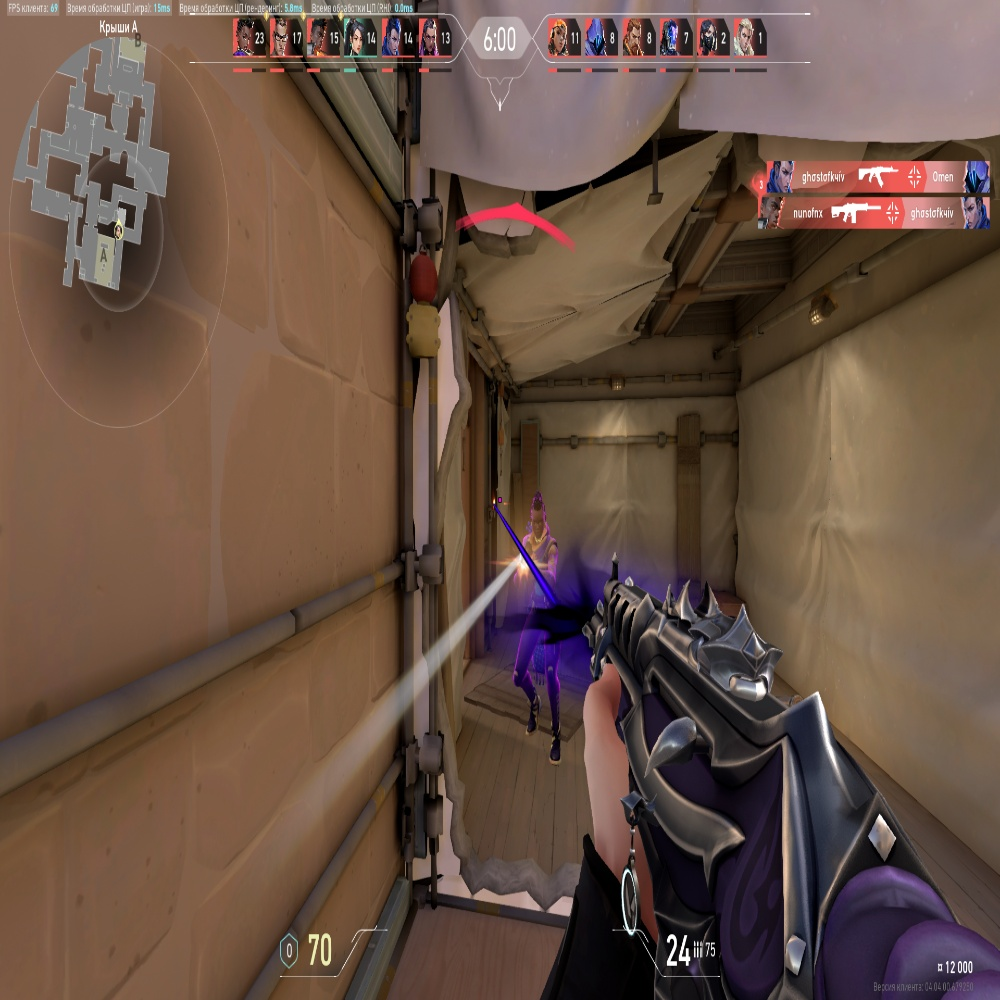body: (523, 540, 560, 609)
head: (530, 501, 546, 538)
